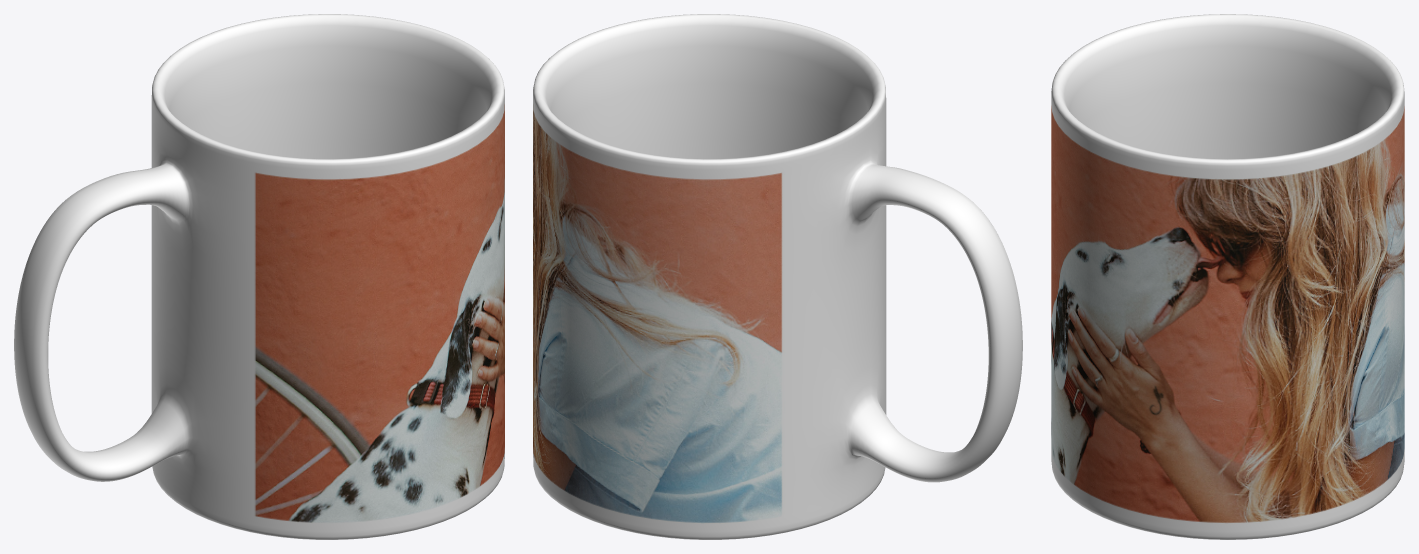
The model's file is mug.glb.
3 views of the same model, side by side, from view 1: azimuth 30°, elevation 25°; view 2: azimuth 150°, elevation 25°; view 3: azimuth 270°, elevation 25° (orthographic).
Visible parts, largest first — view 1: Mug Front-View; view 2: Mug Front-View; view 3: Mug Front-View.
Boxes of the visible parts, <box> form: Mug Front-View: <box>14,14,504,539</box>; Mug Front-View: <box>533,14,1022,539</box>; Mug Front-View: <box>1051,14,1404,539</box>.
Bounding box in the file's own units: 1.35 × 1.07 × 0.9.
1 material, 1 textured.
